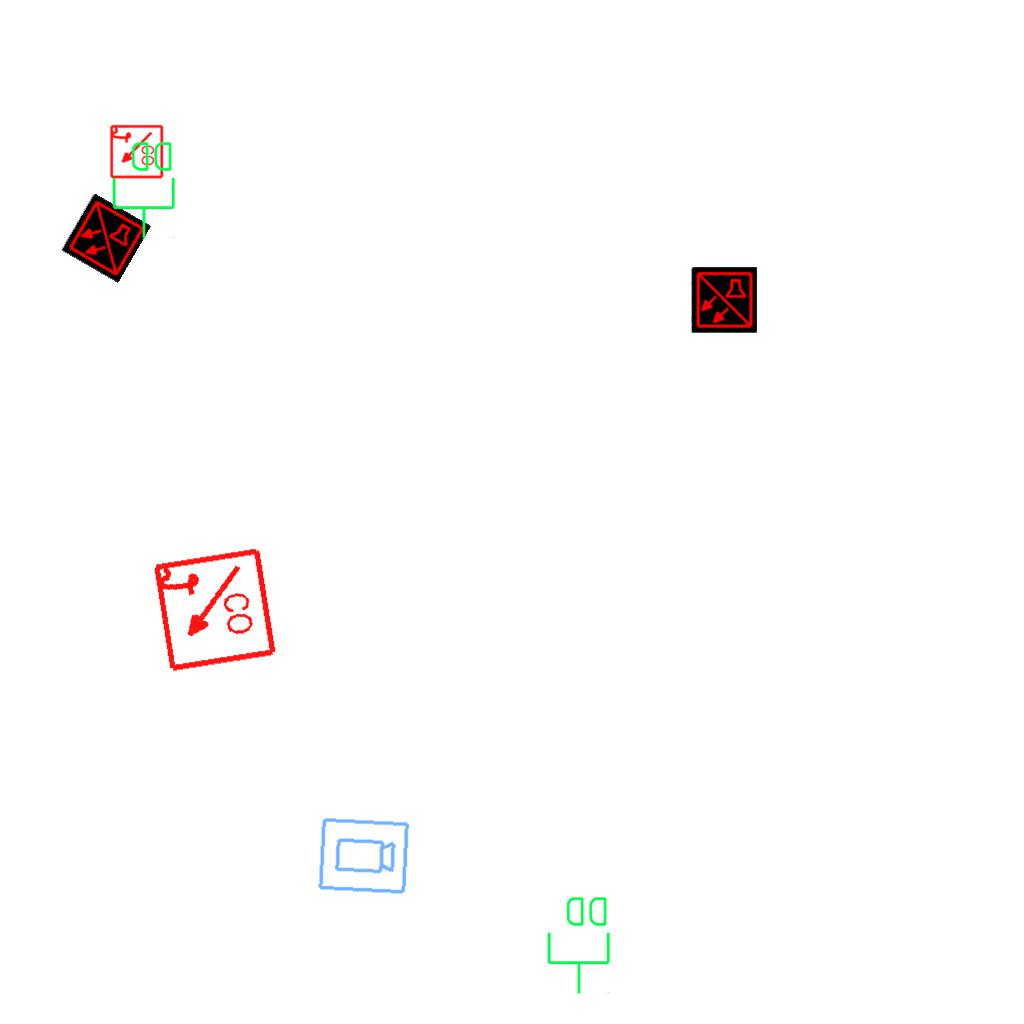Datenanschluss_zweifach: (545, 893, 614, 996), (110, 138, 179, 241)
KFO_Kamera_mit_Festobjektiv: (316, 815, 411, 898)
OKW_Multisensormelder_(Kombination_optischer_Rauch-Kahlenmonoxid_Waerme-Melder): (60, 192, 152, 284), (691, 267, 757, 333)
ROA_Rauchmelder_optisch_mit_Signalgeber_(Sockelsirene): (148, 545, 279, 676), (108, 124, 164, 180)
